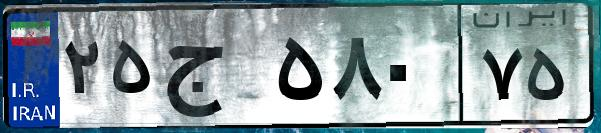0: (385, 28, 445, 110)
2: (57, 26, 110, 100)
5: (270, 28, 330, 110), (525, 38, 570, 115), (110, 28, 158, 98)
7: (475, 38, 525, 113)
8: (330, 28, 385, 110)
ج: (158, 20, 270, 120)
